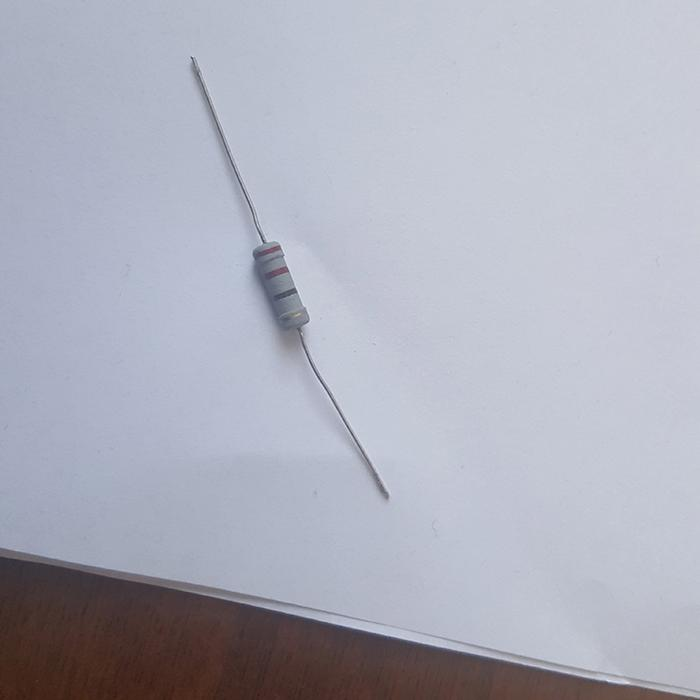resistor: (251, 238, 310, 331)
